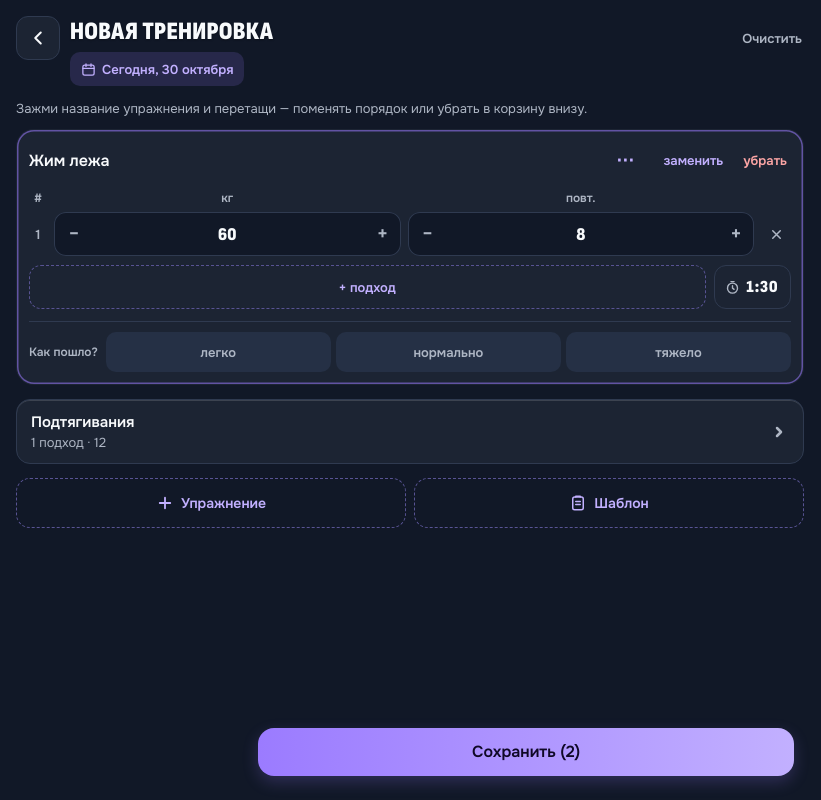
Test: WorkoutScreen › держит активность по exercise.id и раскрывает компактную карточку одним тапом
Click the button with aria-label "Открыть Подтягивания".
click(83, 422)  # box [17, 400, 803, 463]
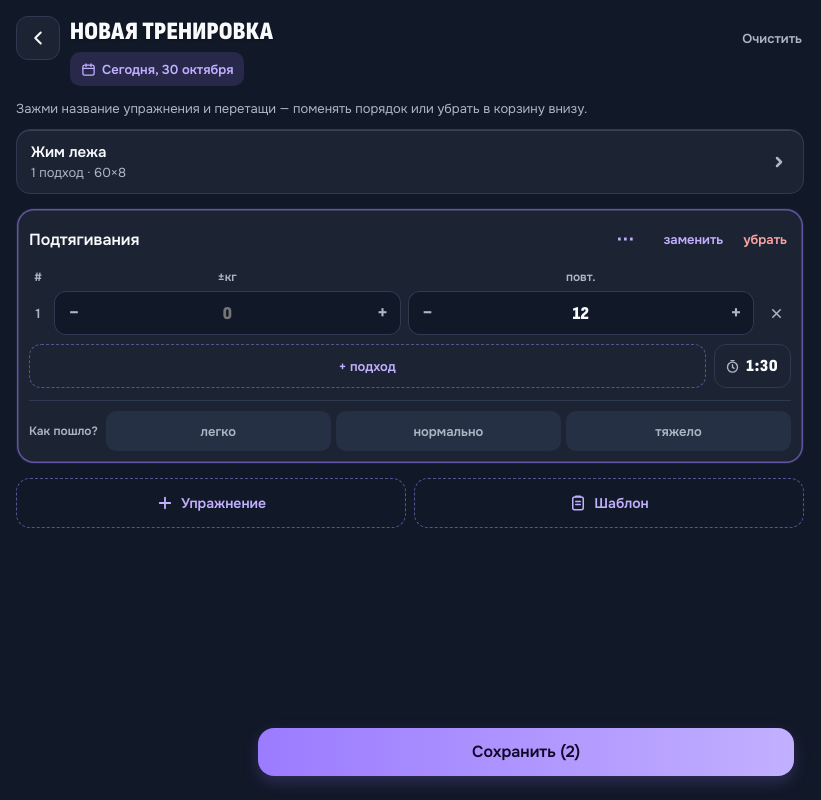
Expected: the field showing "12" is shown, [446, 291, 716, 335]
